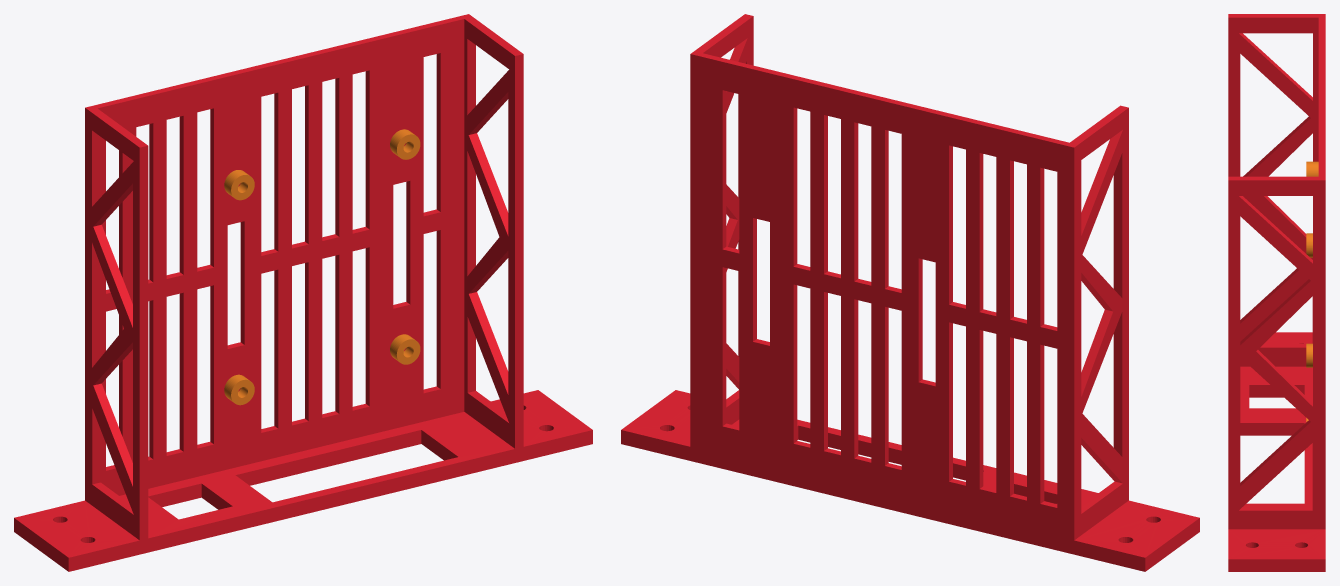
File: tinker.obj
3 renders of one model, left to right at view 1: azimuth 30°, elevation 25°; view 2: azimuth 150°, elevation 25°; view 3: azimuth 270°, elevation 25°, orthographic. The views are drawn at different scales.
Parts seen in each view (by area): view 1: group_0_15277357, group_0_16089887; view 2: group_0_15277357; view 3: group_0_15277357, group_0_16089887.
Part boxes in pixels (<box>): group_0_15277357: <box>14,14,592,571</box>; group_0_16089887: <box>224,129,420,405</box>; group_0_15277357: <box>621,14,1199,571</box>; group_0_15277357: <box>1228,14,1325,571</box>; group_0_16089887: <box>1306,161,1318,421</box>.
Size of the model in its own units: 155 by 115 by 28.
